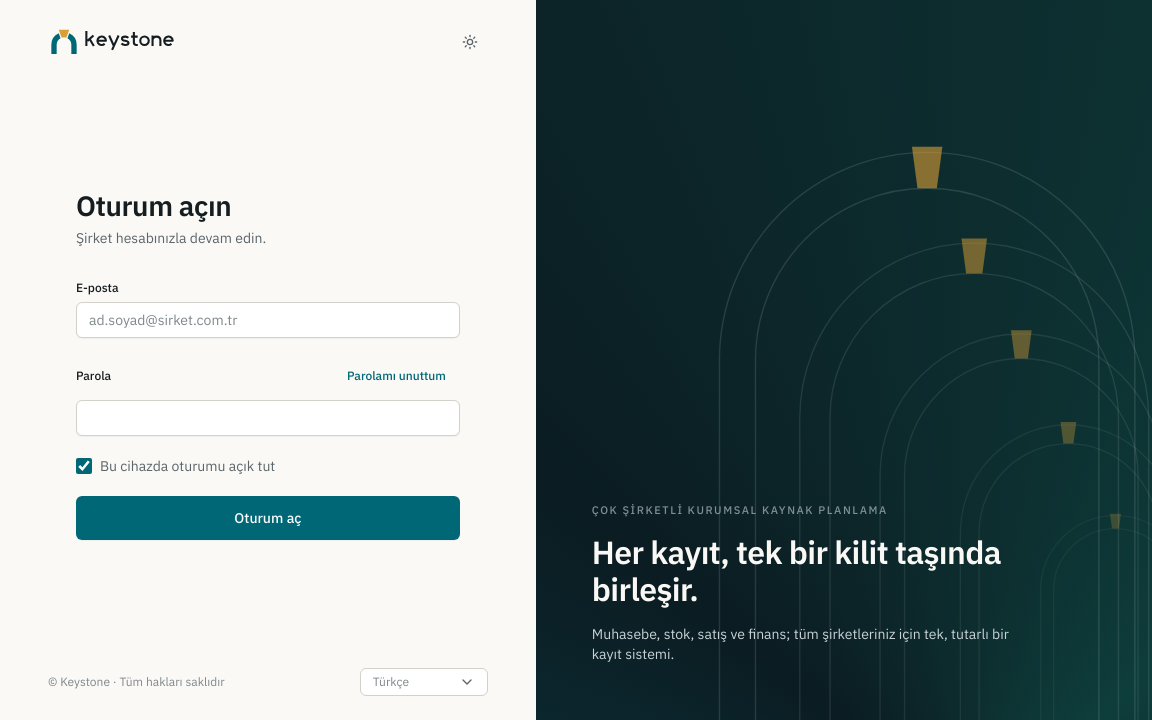
Test case: app routes › signs in from a deep link, shows the shell and reaches the security page
The image size is (1152, 720).
Step 1. Type "deniz@keystone.test" into the field labelled "E-posta" → (268, 320), box x1=76 y1=302 x2=460 y2=338
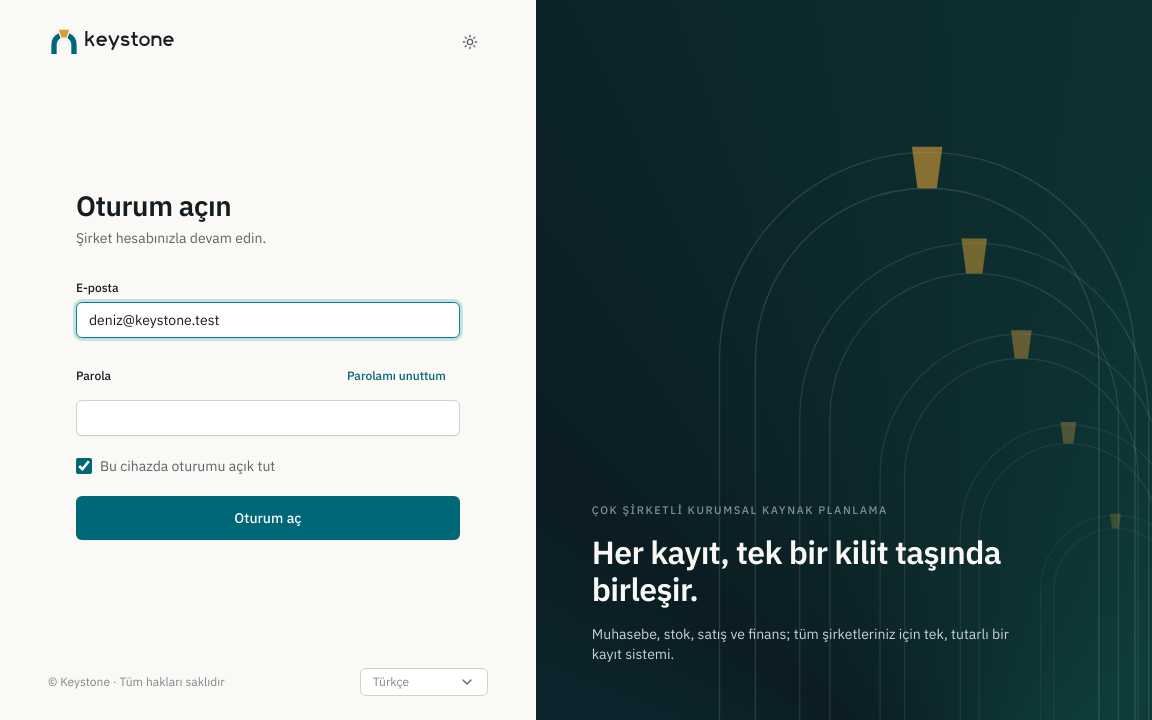
Step 2. Type "correct-horse" into the password field labelled "Parola" → (268, 418), box x1=76 y1=400 x2=460 y2=436
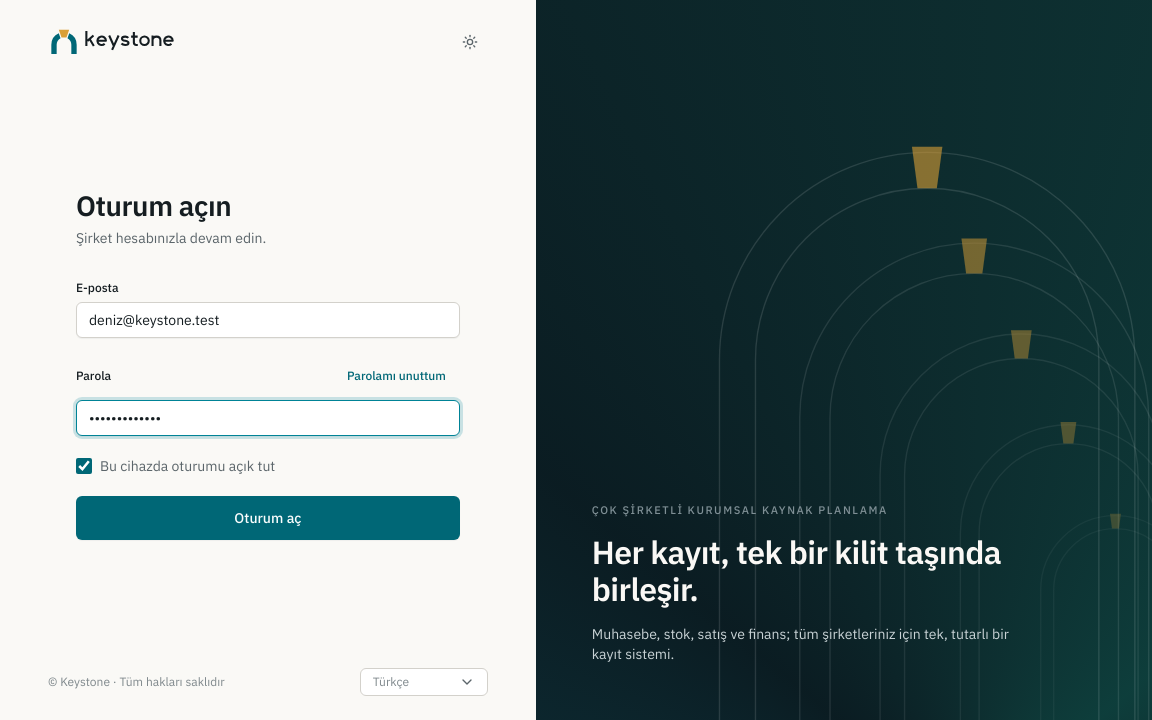
Step 3. Click the button "Oturum aç" → (268, 518), box x1=76 y1=496 x2=460 y2=540
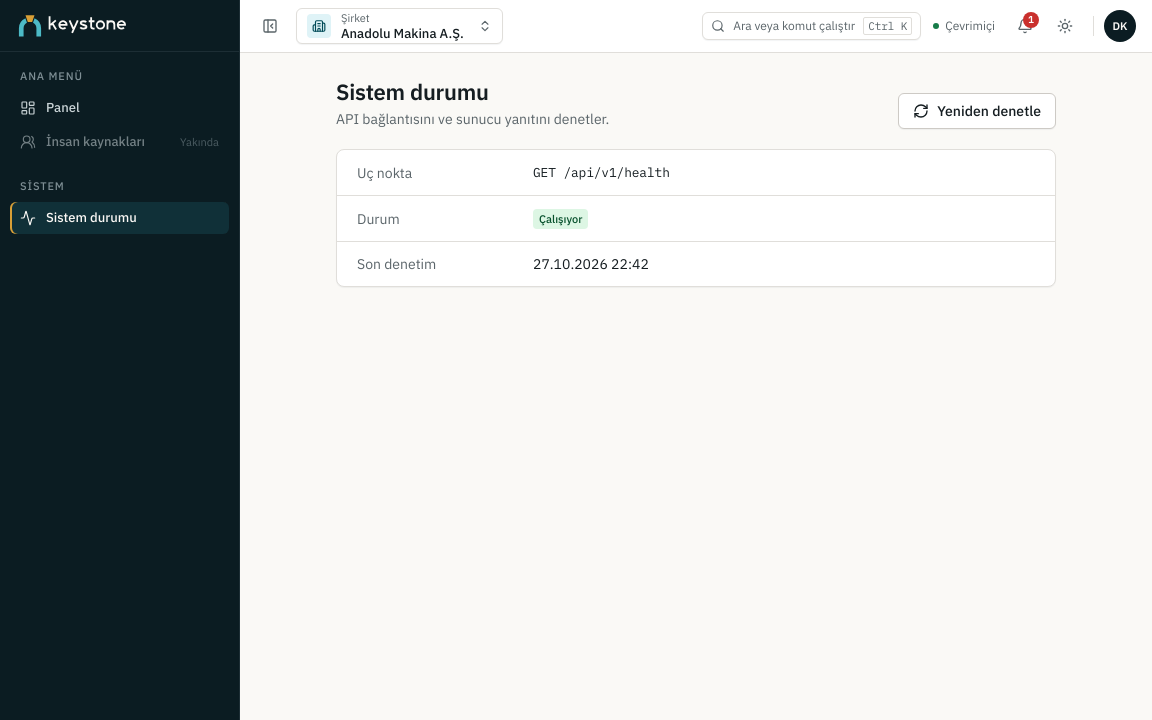
Check: the button named "Bildirimler" is shown, box x1=1007 y1=8 x2=1043 y2=44
Check: the button with aria-label "Komut paletini aç" is shown, box x1=702 y1=12 x2=921 y2=40
Step 4. Click the button with aria-label "Kullanıcı menüsü" → (1120, 26), box x1=1104 y1=10 x2=1136 y2=42
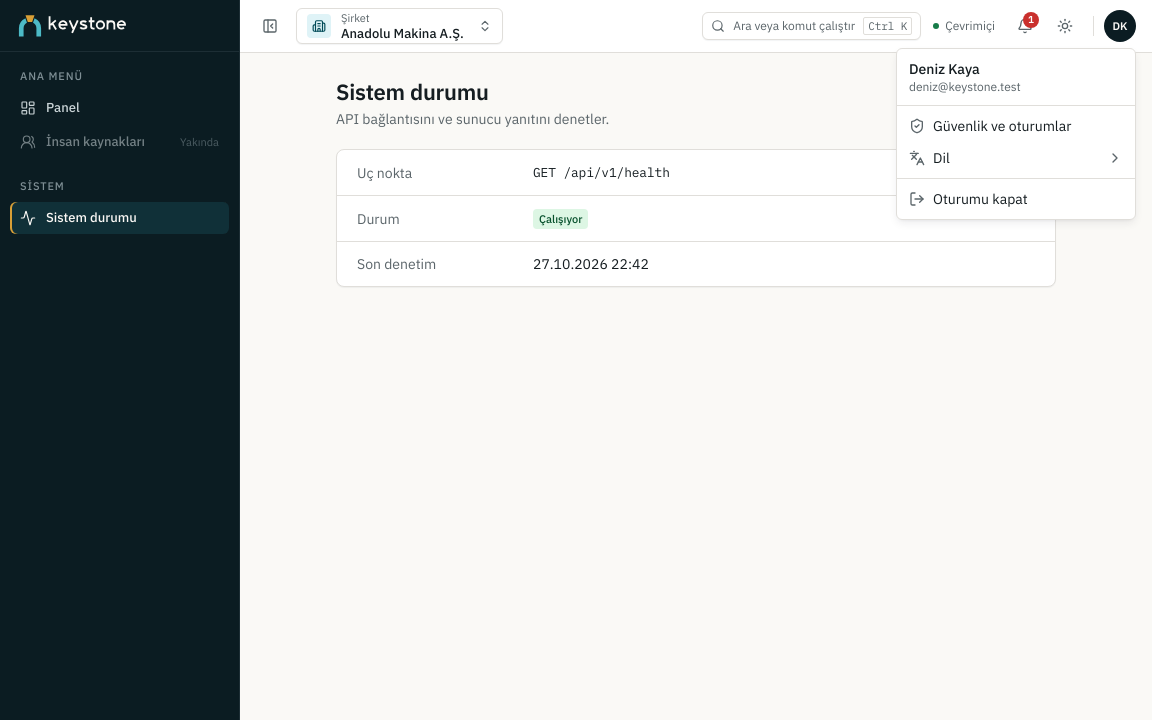
Step 5. Click the menu item "Güvenlik ve oturumlar" → (990, 126), box x1=909 y1=117 x2=1071 y2=135
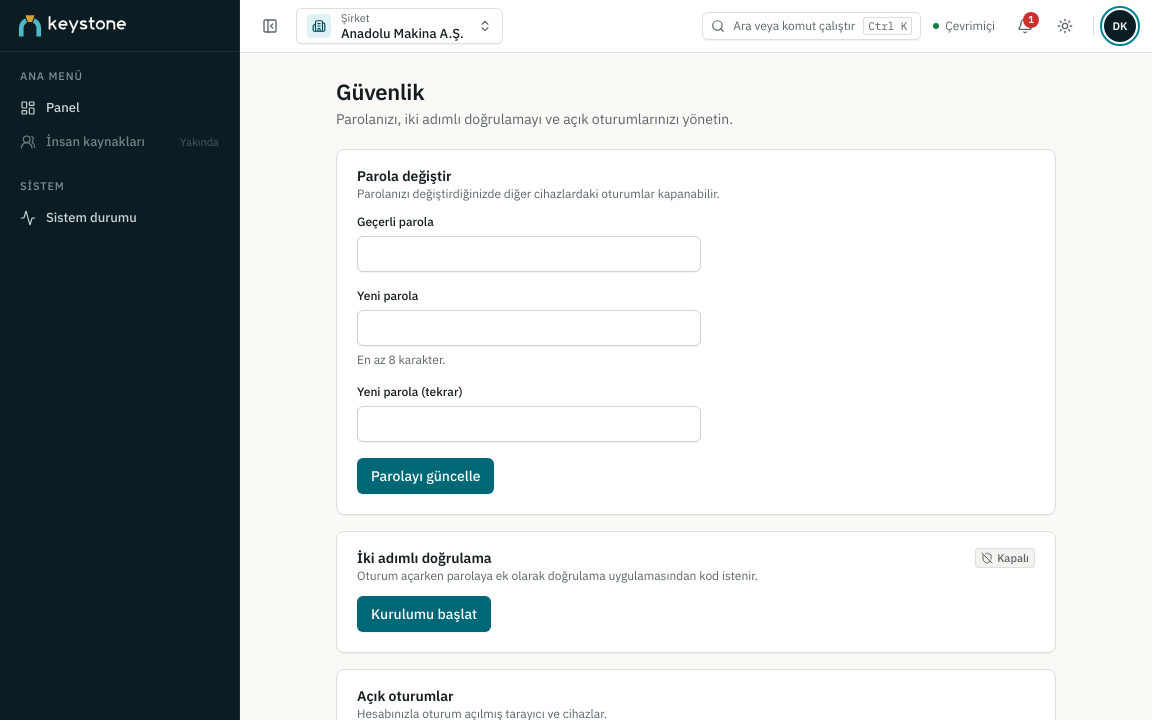
Check: the heading "Güvenlik" is shown, box x1=336 y1=77 x2=424 y2=107
